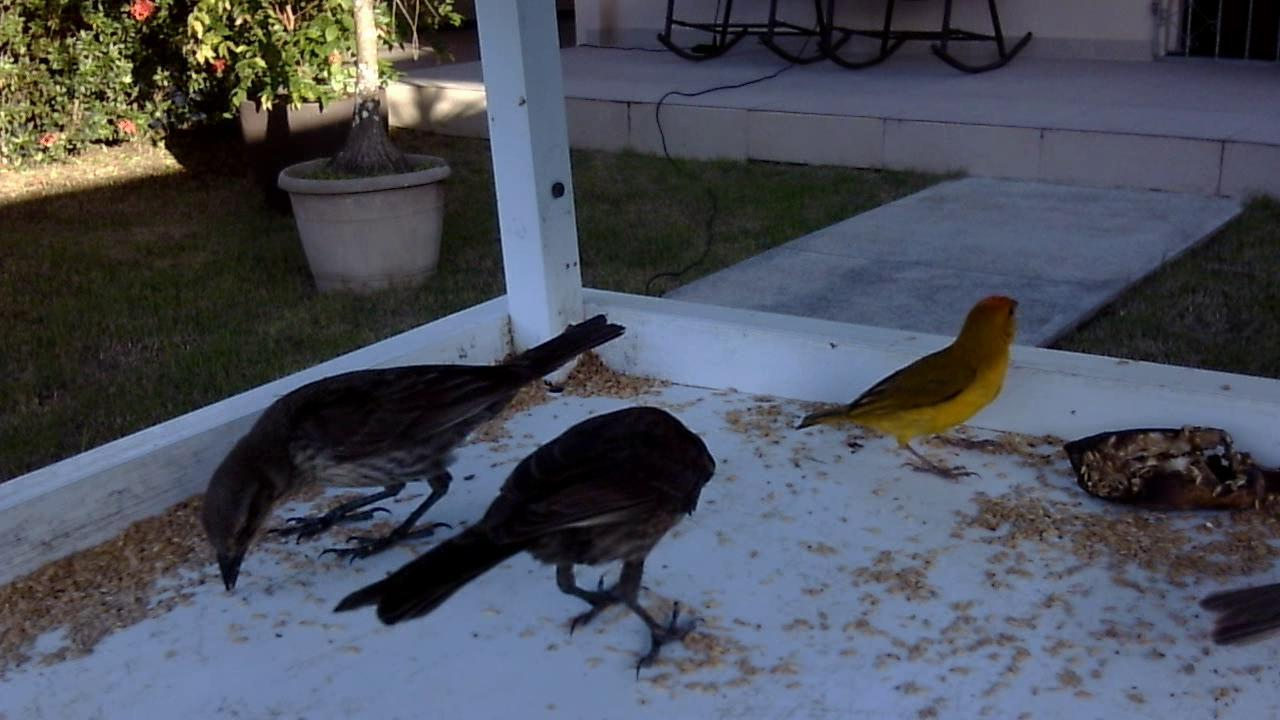canario_do_amazonas: (781, 288, 1032, 488)
chupim: (189, 315, 641, 593), (329, 392, 729, 680)
